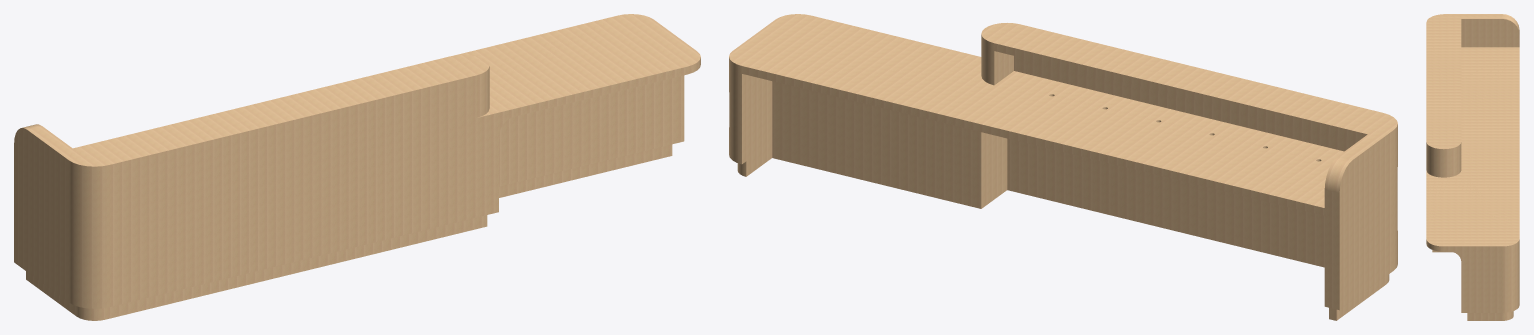
The picture shows the model from 3 angles, left to right: view 1: azimuth 30°, elevation 25°; view 2: azimuth 150°, elevation 25°; view 3: azimuth 270°, elevation 25°; orthographic projection. The views are drawn at different scales.
Visible parts, largest first — view 1: JD-02; view 2: JD-02; view 3: JD-02.
Part boxes in pixels (x1,y1,x2,y2): JD-02: (14, 14, 700, 320); JD-02: (729, 14, 1397, 320); JD-02: (1426, 14, 1519, 320).
Size of the model in its own units: 163 by 39.37 by 31.5.
1 material, 1 textured.
